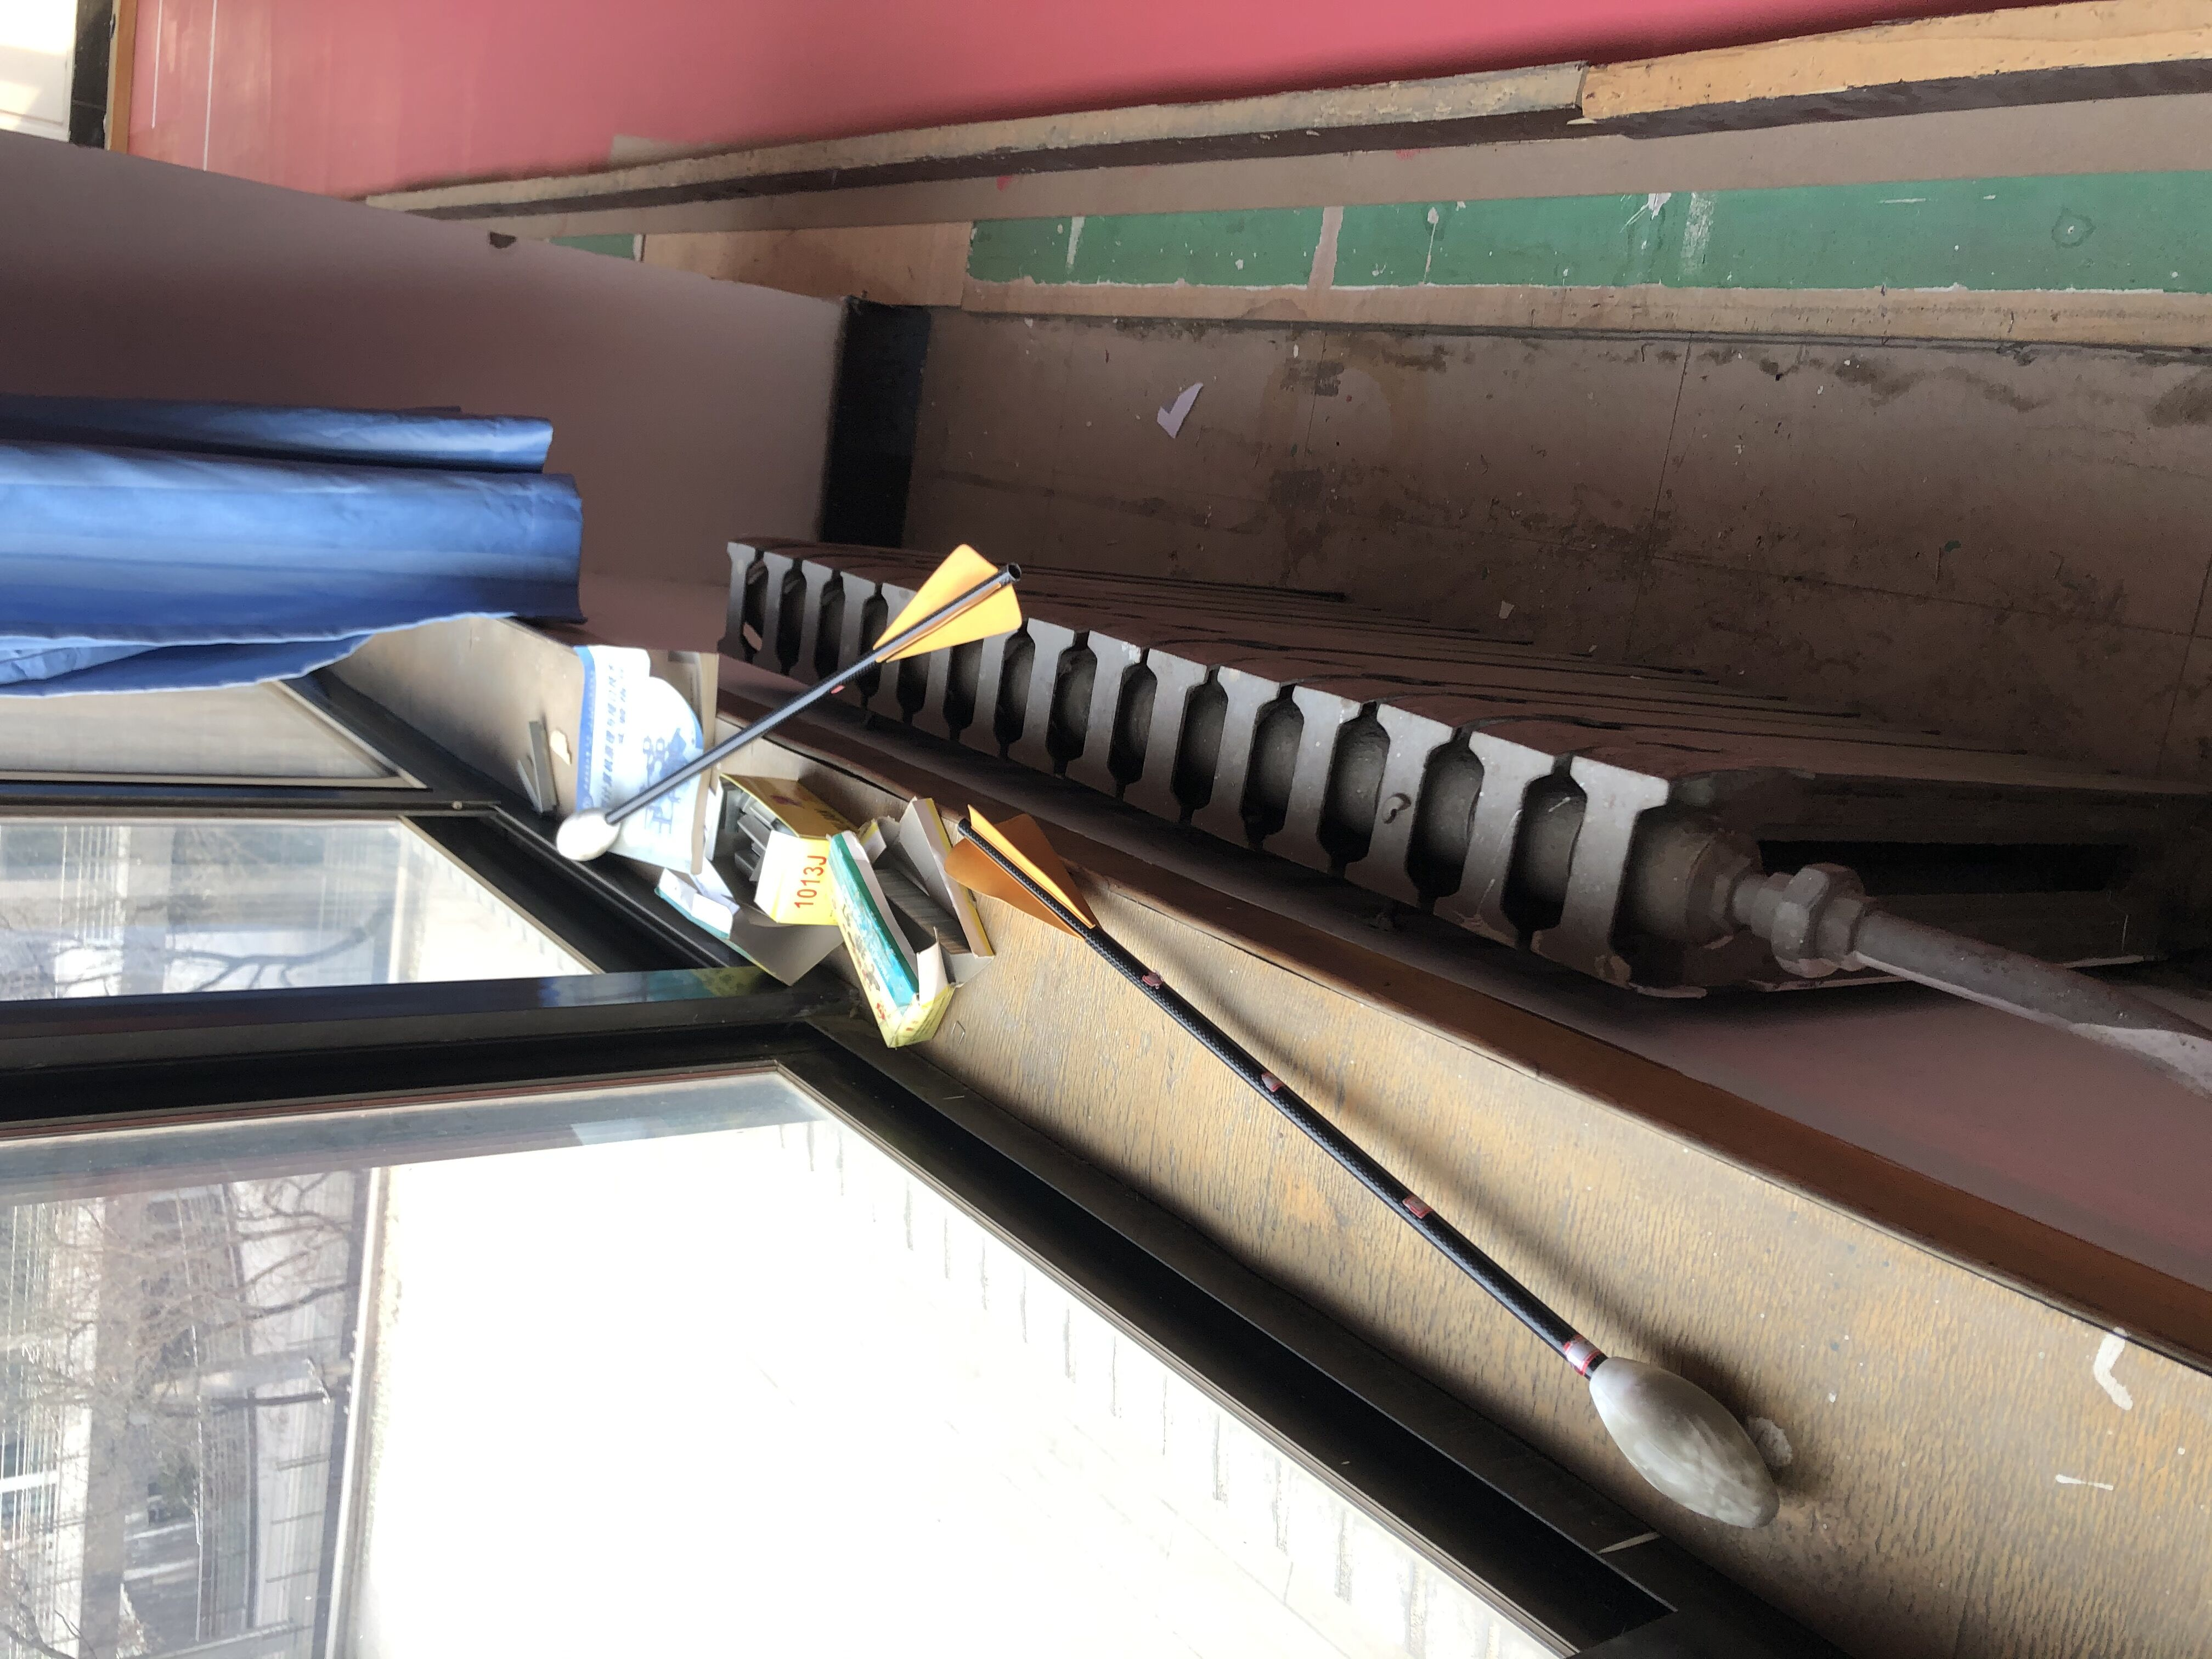arrow: (941, 807, 1787, 1527), (554, 545, 1024, 863)
arrowFront: (1587, 1352, 1787, 1527), (557, 807, 622, 864)
